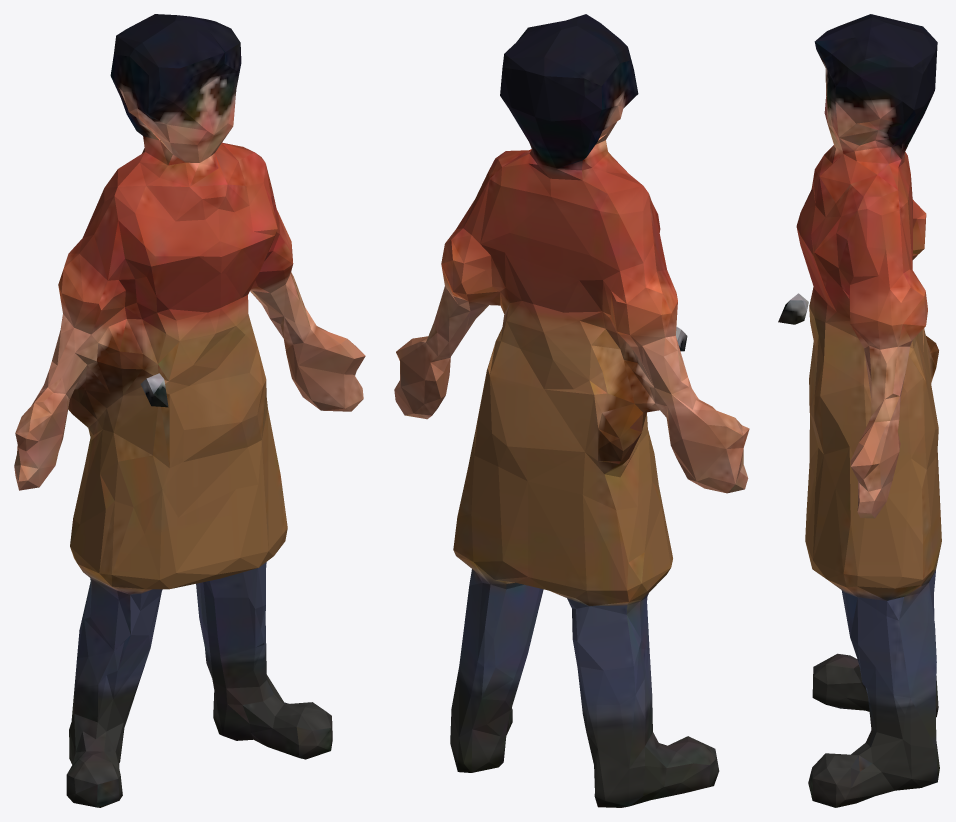
Rendered from habitant-loin.glb.
3 renders of one model, left to right at view 1: azimuth 30°, elevation 25°; view 2: azimuth 150°, elevation 25°; view 3: azimuth 270°, elevation 25°, orthographic. The views are drawn at different scales.
Visible parts, largest first — view 1: habitant; view 2: habitant; view 3: habitant.
Boxes of the visible parts, x1,y1,x2,y2 form: habitant: [14, 14, 365, 807]; habitant: [394, 14, 749, 807]; habitant: [778, 14, 941, 807].
Size of the model in its own units: 0.4852 by 1 by 0.2039.
Materials: 1 (1 with a texture image).
